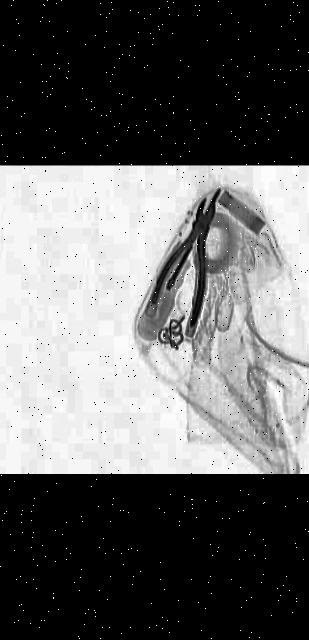Pliers: (139, 197, 236, 328)
